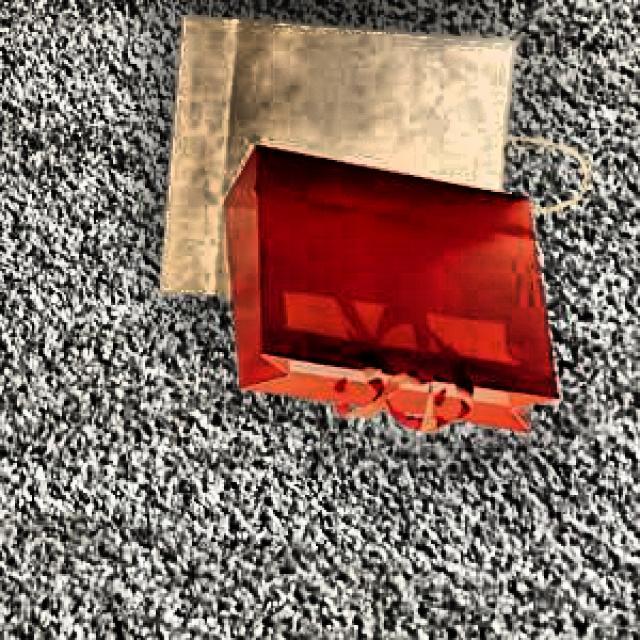Paper-bag: (123, 0, 544, 348), (190, 130, 585, 440)
